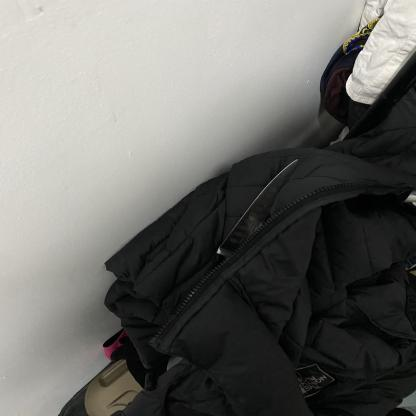Knife: (96, 154, 308, 366)
